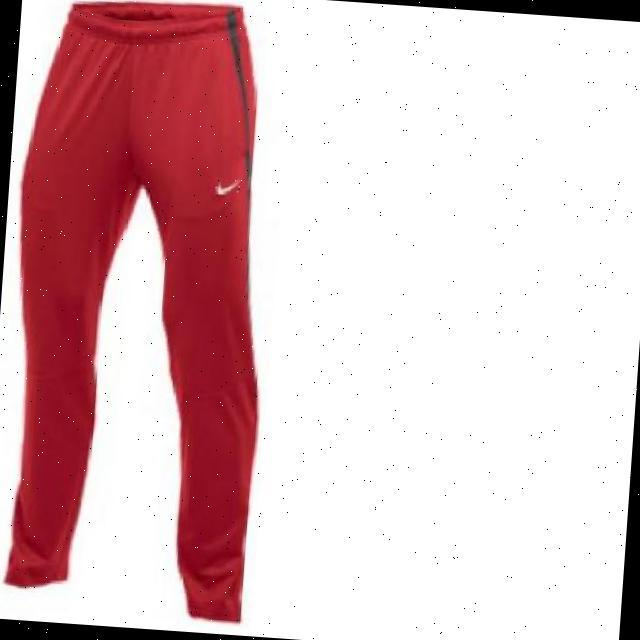Nike: (214, 174, 240, 192)
